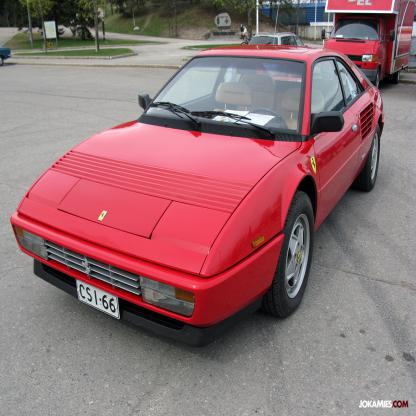Car: (10, 44, 385, 349), (248, 0, 308, 47), (0, 47, 11, 66)
Truck: (321, 0, 415, 89)
